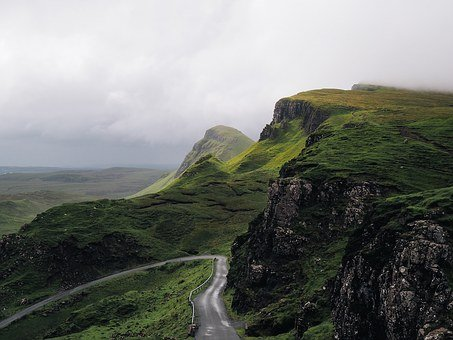mountain: (18, 93, 448, 335)
sky: (2, 5, 453, 126)
